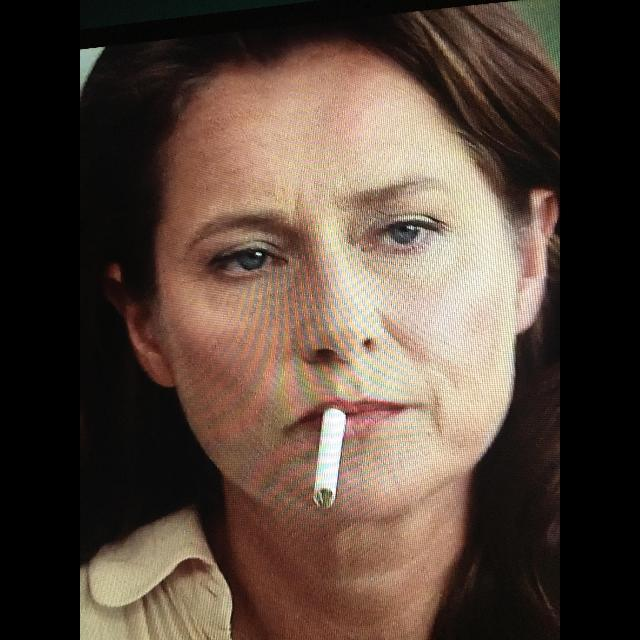rokok: (298, 392, 358, 524)
